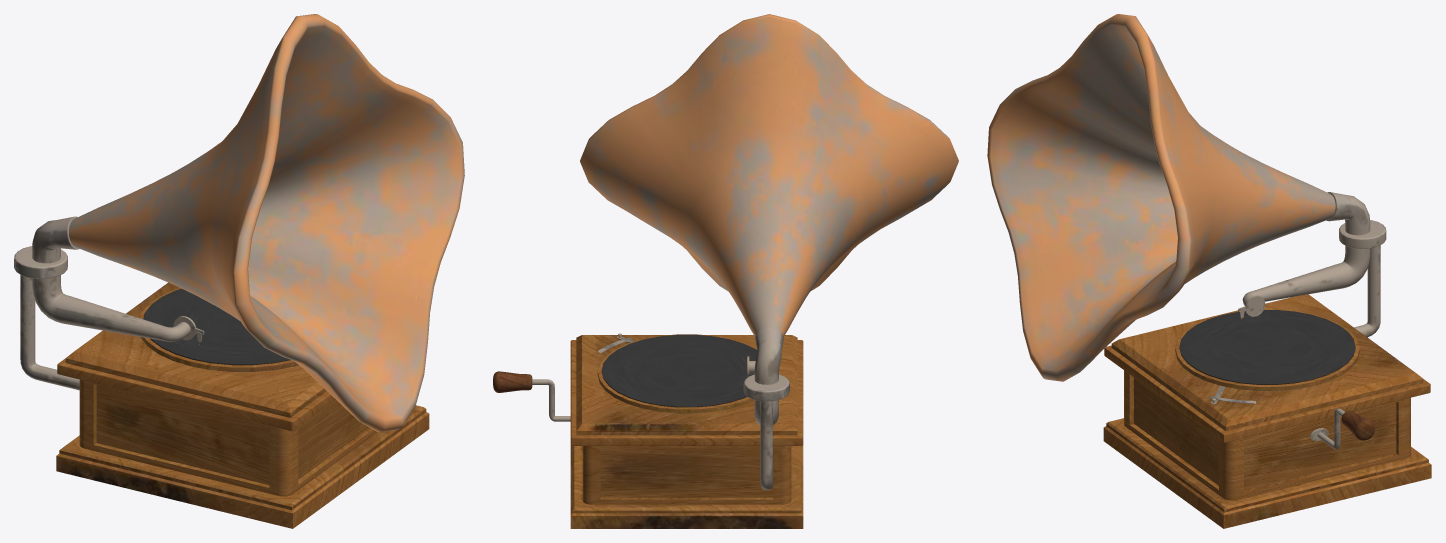
Rendered from gramophone.glb.
The picture shows the model from 3 angles, left to right: view 1: azimuth 30°, elevation 25°; view 2: azimuth 150°, elevation 25°; view 3: azimuth 270°, elevation 25°; orthographic projection. The views are drawn at different scales.
Visible parts, largest first — view 1: gramophone; view 2: gramophone; view 3: gramophone.
Boxes of the visible parts, x1,y1,x2,y2 form: gramophone: [14, 14, 464, 528]; gramophone: [493, 14, 958, 528]; gramophone: [987, 14, 1431, 528].
Bounding box in the file's own units: 1.77 × 2.43 × 2.25.
Materials: 1 (1 with a texture image).
